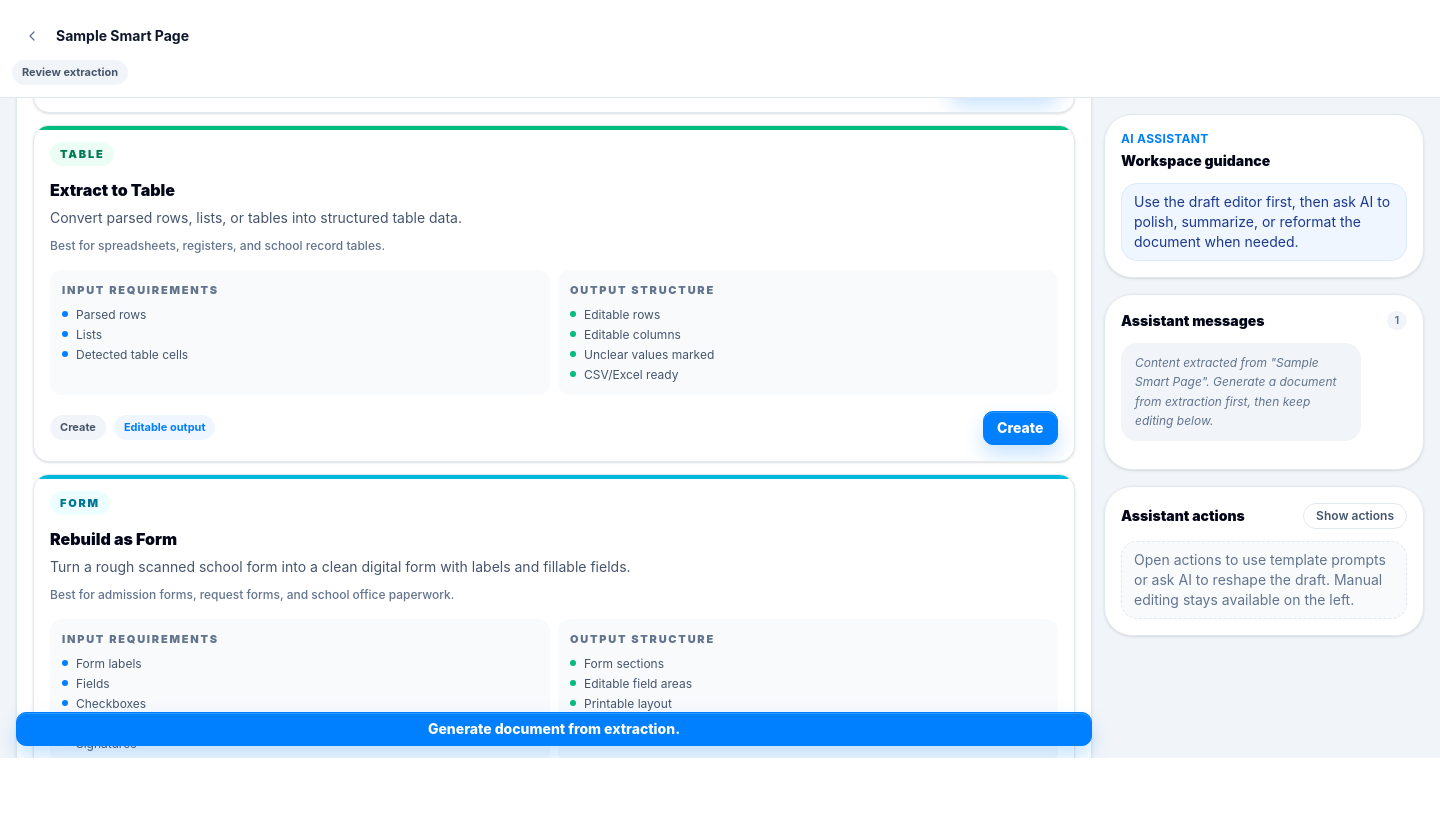
Test case: DocumentEditorPage ? Smart Pages flow › uses the Extract to Table template and sends the right generation prompt
The width and height of the screenshot is (1440, 822).
(page scrolled)
Click the button with aria-label "Extract to Table" at {"x": 1020, "y": 428}, box [982, 410, 1058, 444]
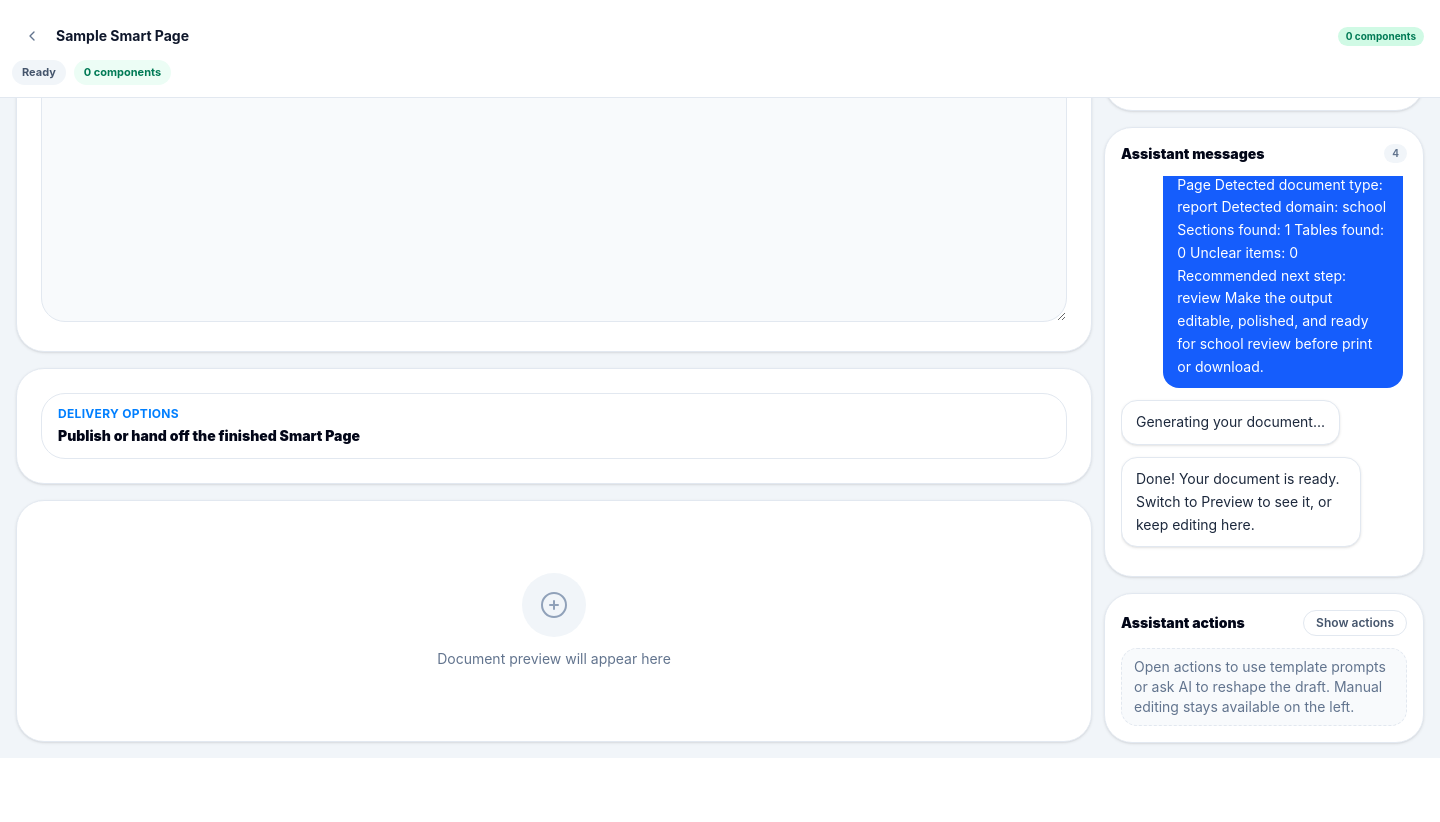
Expected: the text "Done! Your document is ready" is shown, [1136, 470, 1340, 532]
